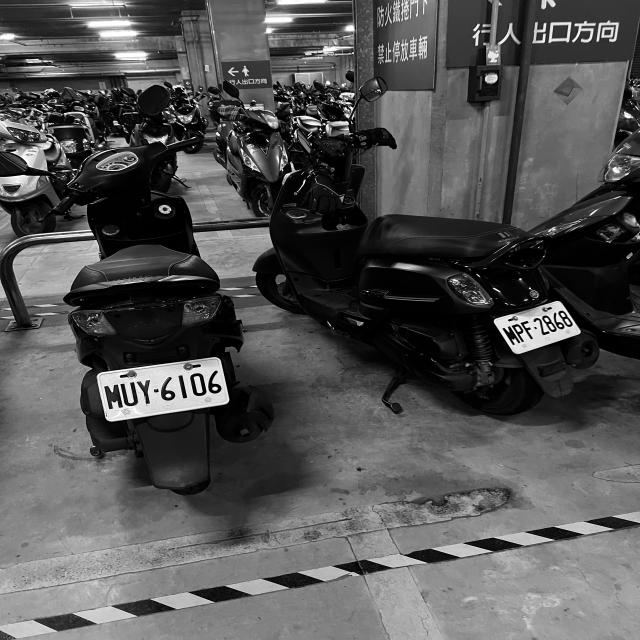-: (152, 386, 160, 394), (533, 326, 538, 330)
0: (188, 372, 207, 397)
1: (176, 373, 188, 399)
2: (532, 316, 551, 336)
6: (206, 370, 224, 394), (160, 375, 176, 401), (550, 312, 568, 331)
8: (556, 308, 575, 329), (540, 314, 559, 333)
F: (519, 320, 538, 340)
M: (103, 383, 124, 411), (501, 325, 522, 346)
U: (120, 381, 141, 408)
Y: (137, 378, 153, 404)
plate: (99, 359, 230, 420), (494, 301, 581, 354), (510, 323, 530, 343)
